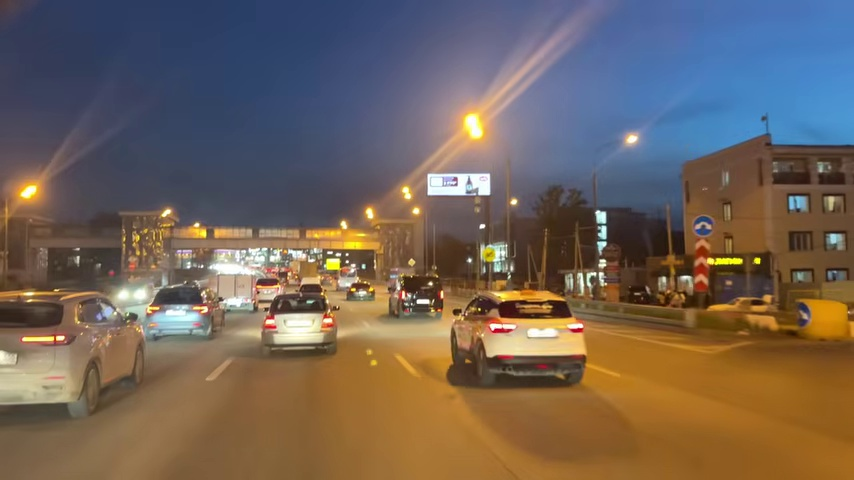acesa: (459, 111, 490, 143), (397, 183, 420, 214), (15, 181, 41, 204), (397, 184, 416, 202), (621, 131, 639, 148), (363, 205, 380, 223), (158, 206, 173, 223), (506, 195, 521, 210)
